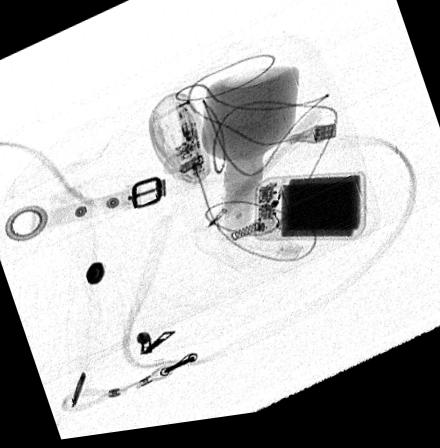Powerbank: (254, 182, 368, 251)
